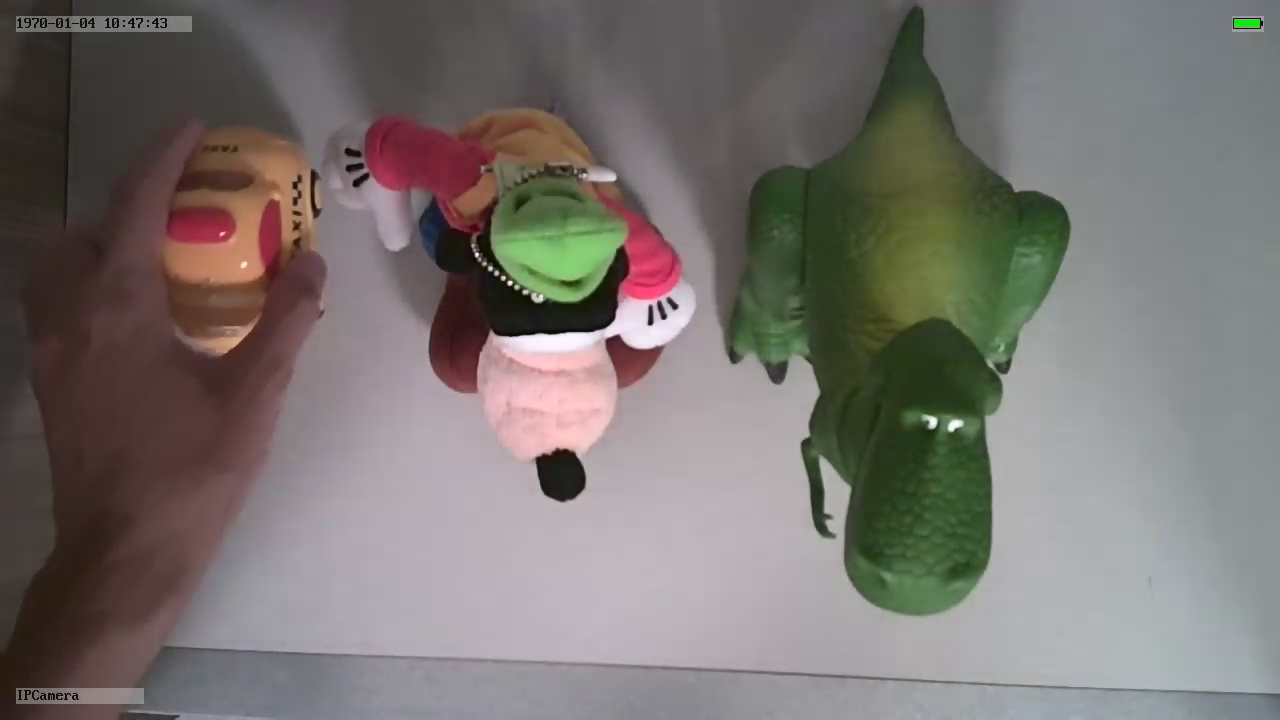goofy: (324, 101, 701, 502)
